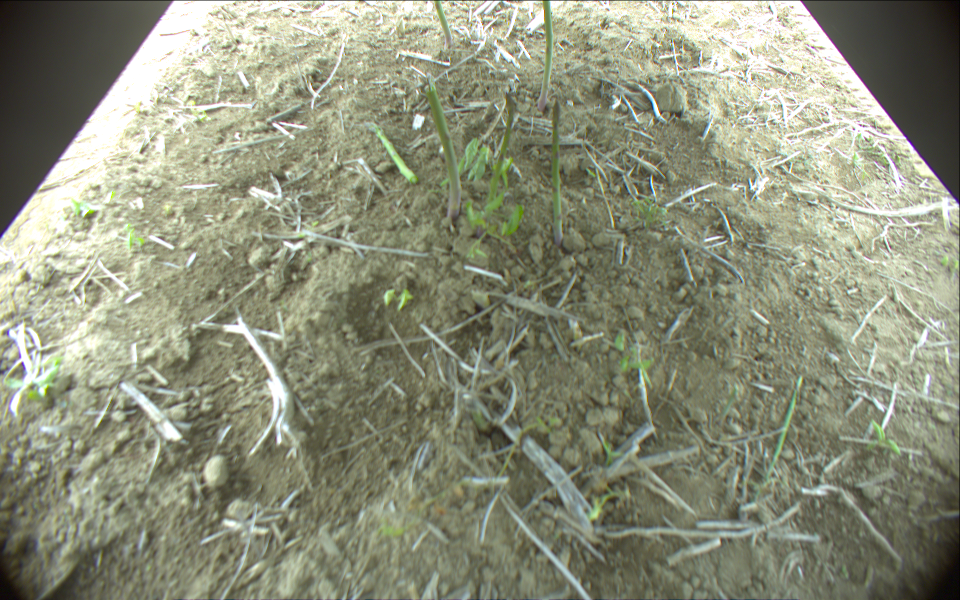aspa: (427, 79, 461, 218), (762, 376, 803, 479), (484, 93, 518, 208), (374, 124, 417, 184), (550, 99, 563, 245), (539, 1, 555, 114), (435, 1, 455, 48)
